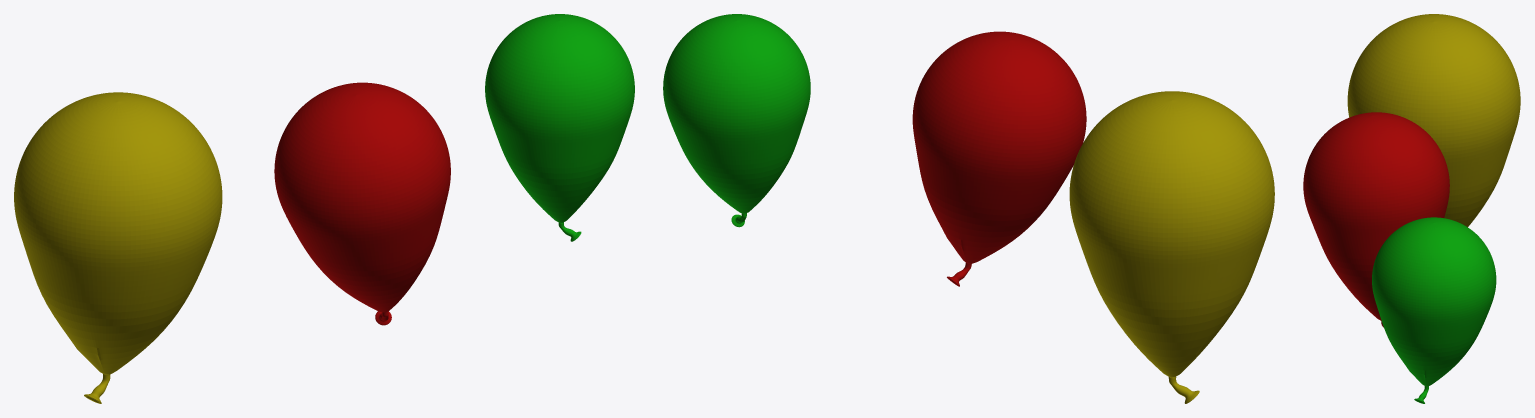
File: balloooooonz4lyfe.fbx
3 views of the same model, side by side, from view 1: azimuth 30°, elevation 25°; view 2: azimuth 150°, elevation 25°; view 3: azimuth 270°, elevation 25° (orthographic). The views are drawn at different scales.
Parts seen in each view (by area): view 1: Sphere.001, Sphere.002, Sphere.003; view 2: Sphere.001, Sphere.002, Sphere.003; view 3: Sphere.001, Sphere.002, Sphere.003.
Boxes of the visible parts, x1,y1,x2,y2 form: Sphere.001: (14,92,222,403); Sphere.002: (274,82,450,325); Sphere.003: (485,14,634,241); Sphere.001: (1069,91,1274,403); Sphere.002: (912,31,1086,286); Sphere.003: (663,14,810,227); Sphere.001: (1347,14,1520,227); Sphere.002: (1303,112,1449,327); Sphere.003: (1372,217,1496,403).
Size of the model in its own units: 908 by 436 by 345.
